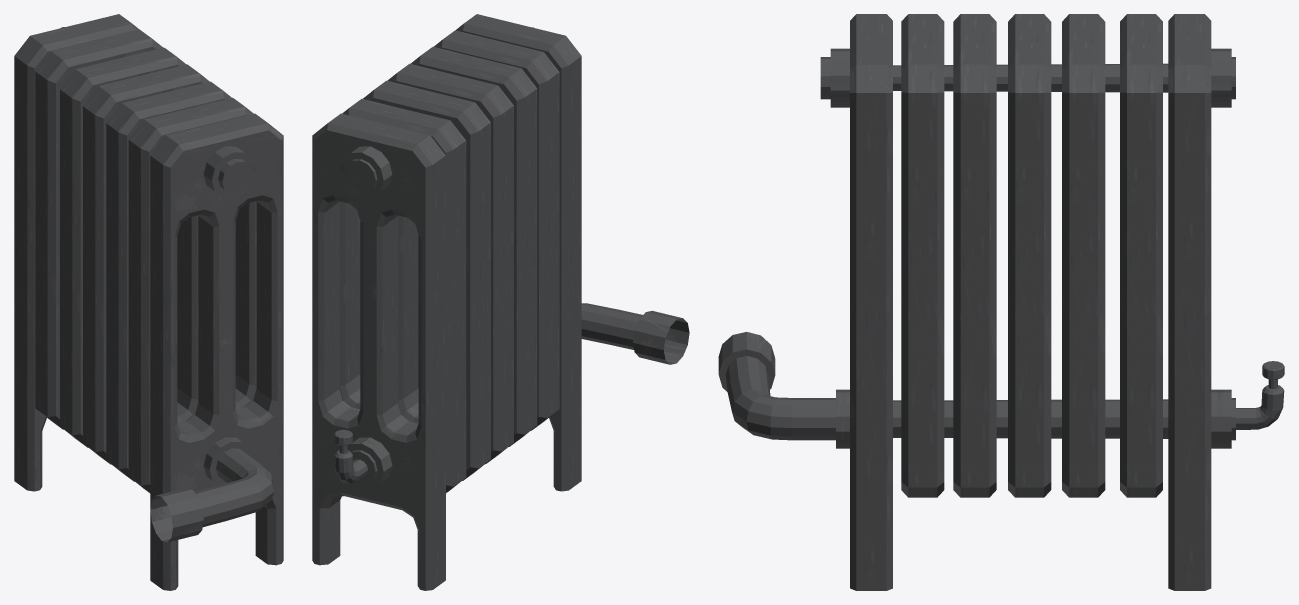
Rendered from radiator.fbx.
The picture shows the model from 3 angles, left to right: view 1: azimuth 30°, elevation 25°; view 2: azimuth 150°, elevation 25°; view 3: azimuth 270°, elevation 25°; orthographic projection. The views are drawn at different scales.
Parts seen in each view (by area): view 1: radiator; view 2: radiator; view 3: radiator.
Part boxes in pixels (left/top/right/bottom): radiator: left=14, top=14, right=283, bottom=590; radiator: left=312, top=14, right=689, bottom=590; radiator: left=718, top=14, right=1284, bottom=590.
Size of the model in its own units: 1.69 by 4.2 by 4.17.
Materials: 1 (1 with a texture image).
